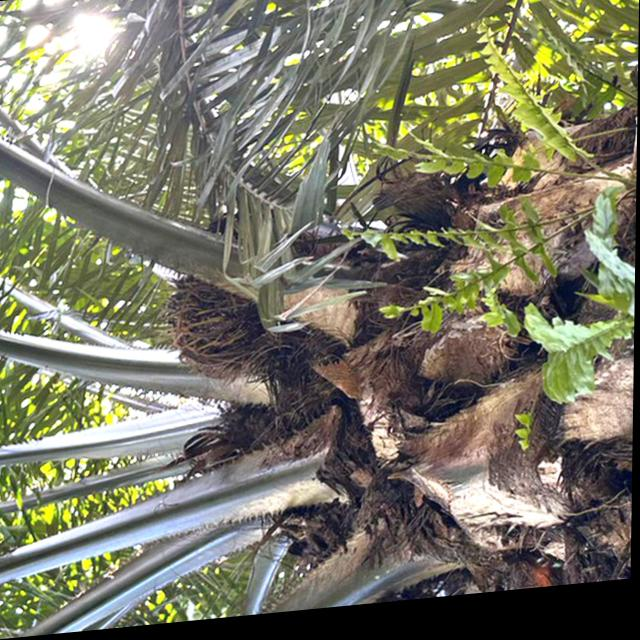unripe: (162, 264, 263, 382)
